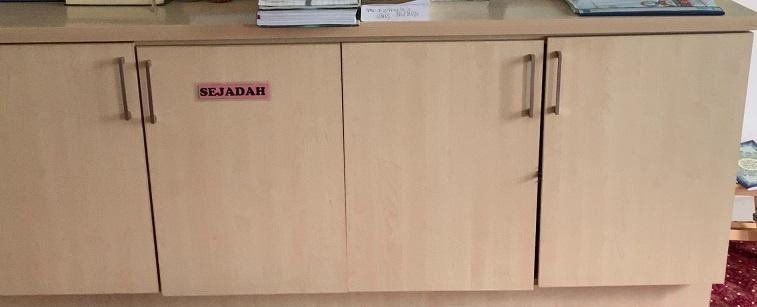cabinet_door: (546, 36, 745, 289), (145, 48, 340, 298), (353, 47, 547, 293), (0, 47, 145, 298)
handle: (521, 52, 541, 121), (115, 54, 133, 122), (549, 50, 567, 115), (142, 58, 159, 125)
